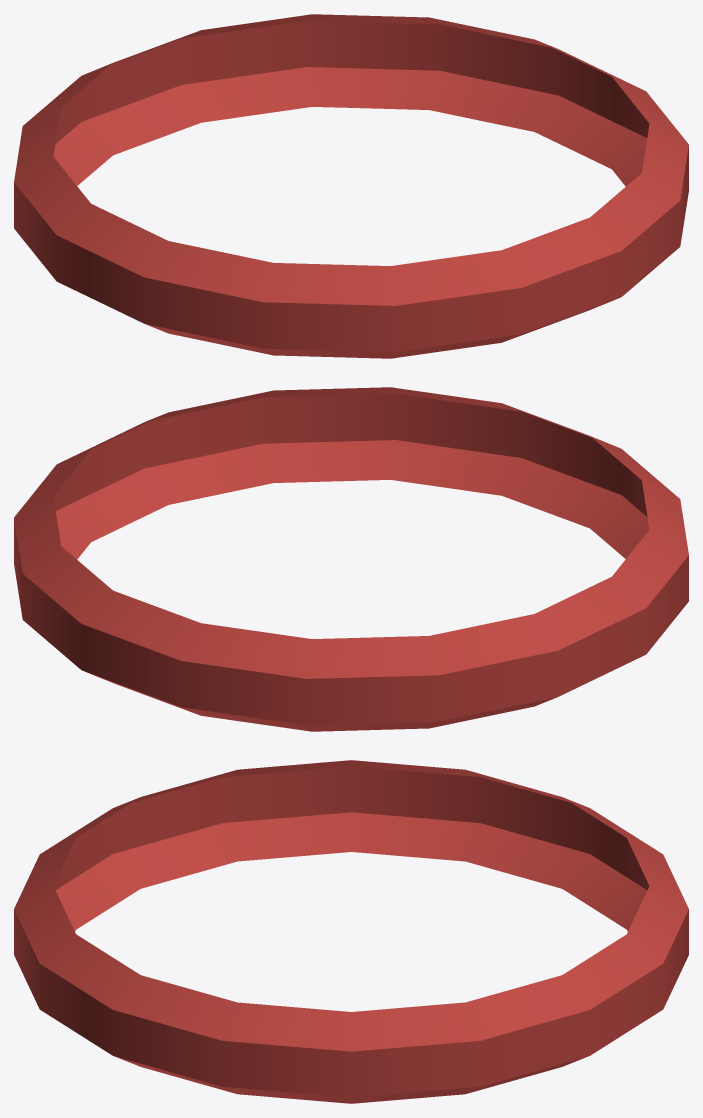
File: weld_lod1.glb
3 renders of one model, top to bottom at view 1: azimuth 30°, elevation 25°; view 2: azimuth 150°, elevation 25°; view 3: azimuth 270°, elevation 25°, orthographic.
Visible parts, largest first — view 1: weld_lod1; view 2: weld_lod1; view 3: weld_lod1.
Boxes of the visible parts, bbox=[...] form: weld_lod1: bbox=[14, 14, 688, 358]; weld_lod1: bbox=[14, 387, 688, 731]; weld_lod1: bbox=[14, 760, 688, 1103].
Size of the model in its own units: 2.27 by 0.34 by 2.27.
